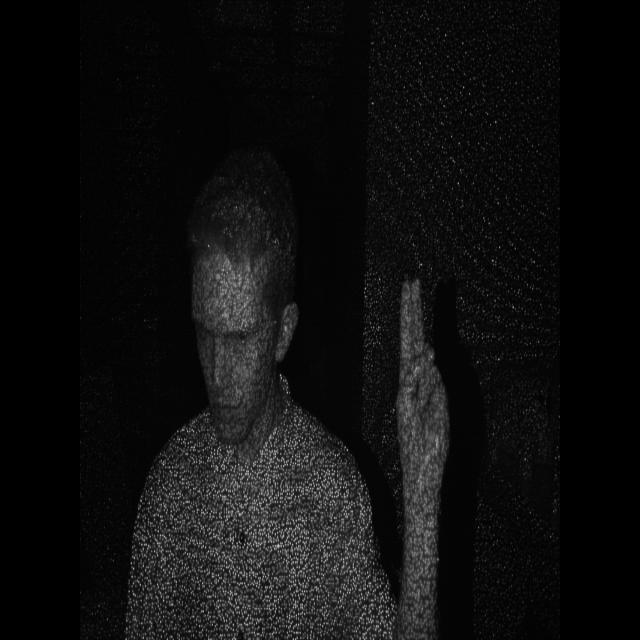U: (386, 266, 456, 510)
